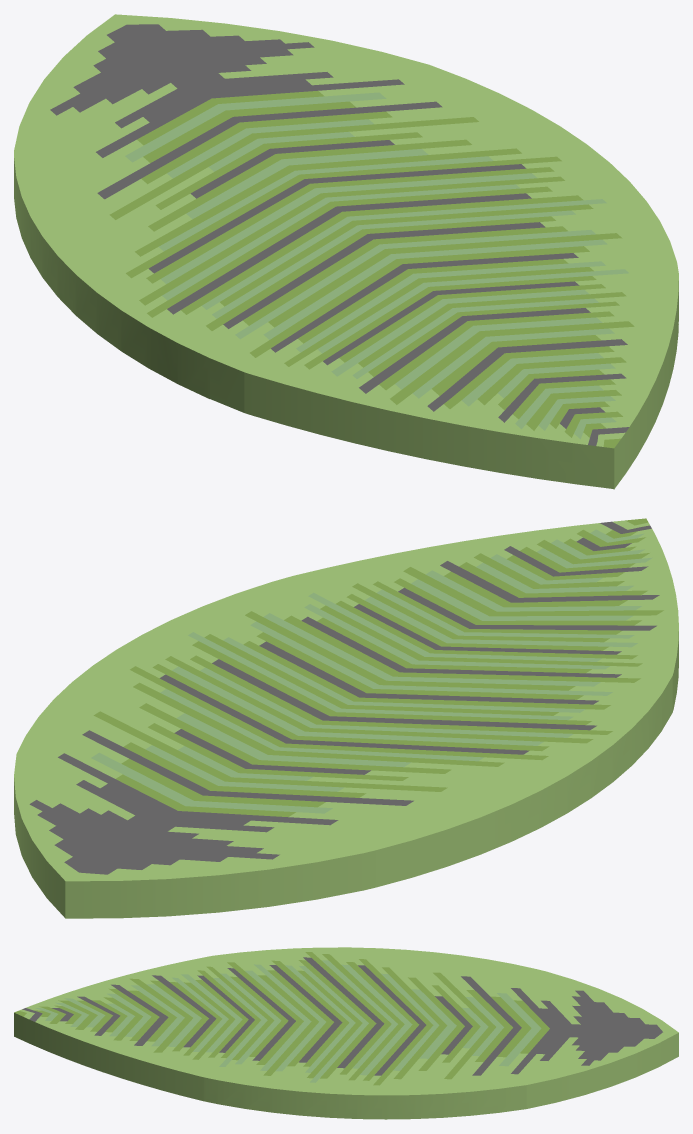
File: Leaf.glb
3 views of the same model, one above another, from view 1: azimuth 30°, elevation 25°; view 2: azimuth 150°, elevation 25°; view 3: azimuth 270°, elevation 25° (orthographic). The views are drawn at different scales.
Parts seen in each view (by area): view 1: leaf shape platform_001; view 2: leaf shape platform_001; view 3: leaf shape platform_001.
Part boxes in pixels (x1,y1,x2,y2): leaf shape platform_001: (14, 14, 678, 489); leaf shape platform_001: (14, 518, 678, 918); leaf shape platform_001: (14, 947, 678, 1119).
Size of the model in its own units: 8.13 by 0.6168 by 15.45.
